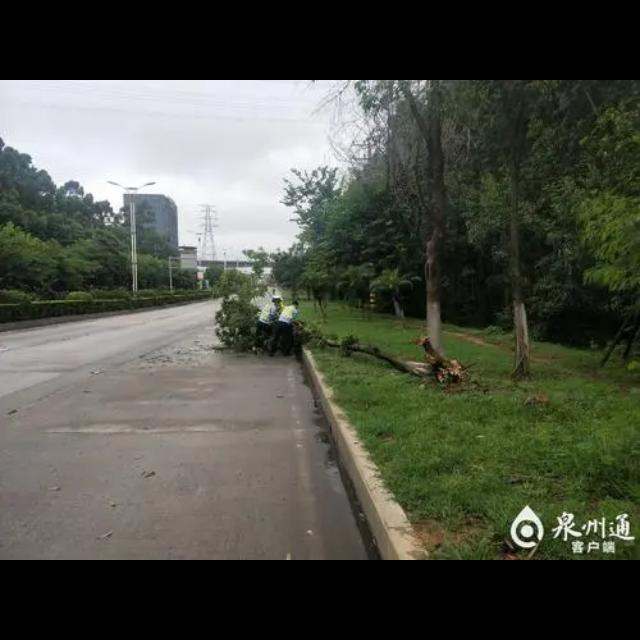fallen_tree: (212, 292, 456, 382)
